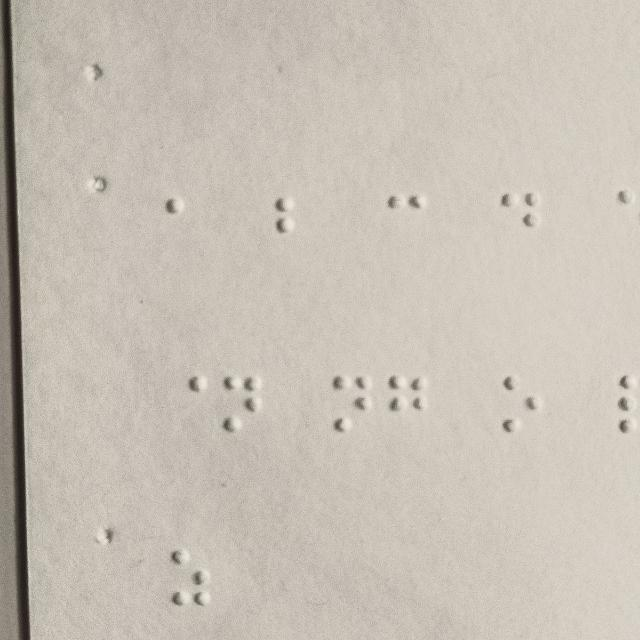a: (166, 197, 202, 254)
b: (276, 197, 312, 253)
c: (388, 196, 424, 252)
d: (501, 192, 537, 248)
dot_4: (171, 377, 207, 433)
enye: (224, 376, 261, 432)
g: (389, 376, 426, 432)
n: (334, 376, 371, 432)
o: (501, 378, 537, 434)
z: (170, 547, 210, 608)
